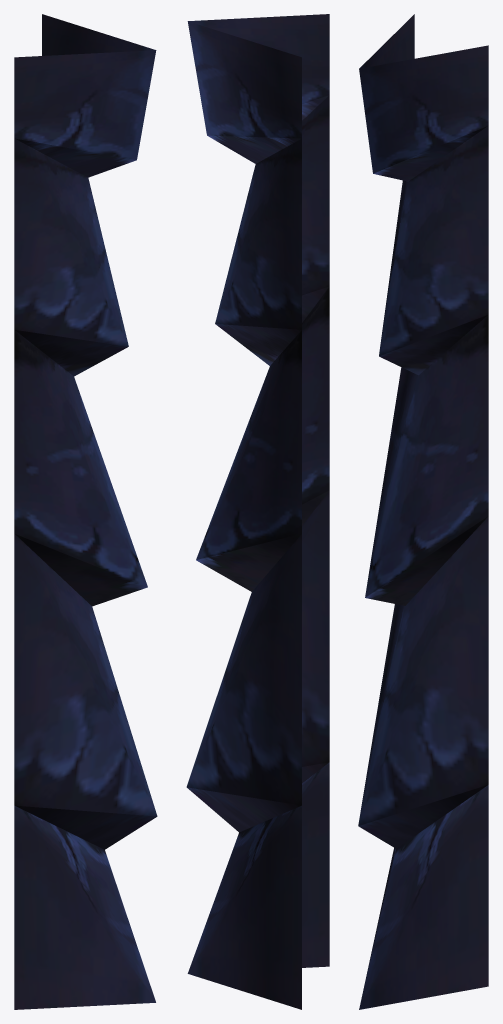
File: palace_wall_convex_02.fbx
3 views of the same model, side by side, from view 1: azimuth 30°, elevation 25°; view 2: azimuth 210°, elevation 25°; view 3: azimuth 270°, elevation 25° (orthographic).
Visible parts, largest first — view 1: palace_tileset/palace_corners_mat; view 2: palace_tileset/palace_corners_mat; view 3: palace_tileset/palace_corners_mat.
Part boxes in pixels (x1,y1,x2,y2): palace_tileset/palace_corners_mat: [14, 14, 157, 1009]; palace_tileset/palace_corners_mat: [186, 14, 329, 1009]; palace_tileset/palace_corners_mat: [358, 14, 488, 1009].
Size of the model in its own units: 0.6919 by 5.5 by 0.6919.
